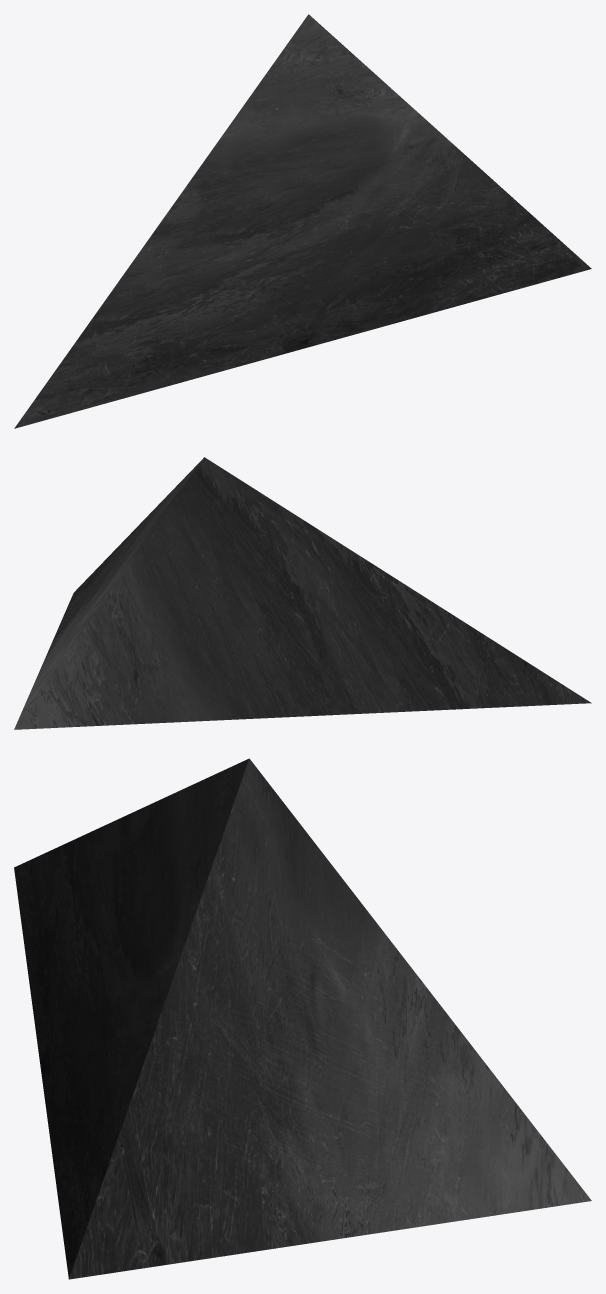
File: noir8.FBX
3 renders of one model, top to bottom at view 1: azimuth 30°, elevation 25°; view 2: azimuth 150°, elevation 25°; view 3: azimuth 270°, elevation 25°, orthographic. The views are drawn at different scales.
Visible parts, largest first — view 1: Ligne004; view 2: Ligne004; view 3: Ligne004.
Part boxes in pixels (left/top/right/bottom): Ligne004: left=14, top=14, right=591, bottom=428; Ligne004: left=14, top=457, right=591, bottom=729; Ligne004: left=14, top=758, right=591, bottom=1279.
Bounding box in the file's own units: 8.16 × 3.42 × 4.84.
Materials: 1 (1 with a texture image).
